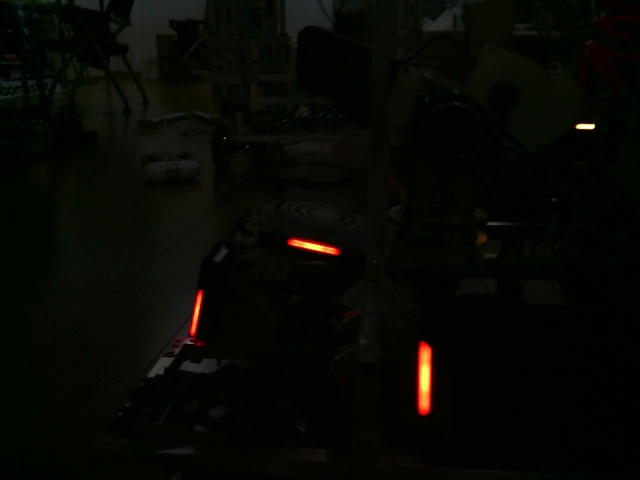lamp: (412, 338, 438, 417), (191, 285, 203, 341)
